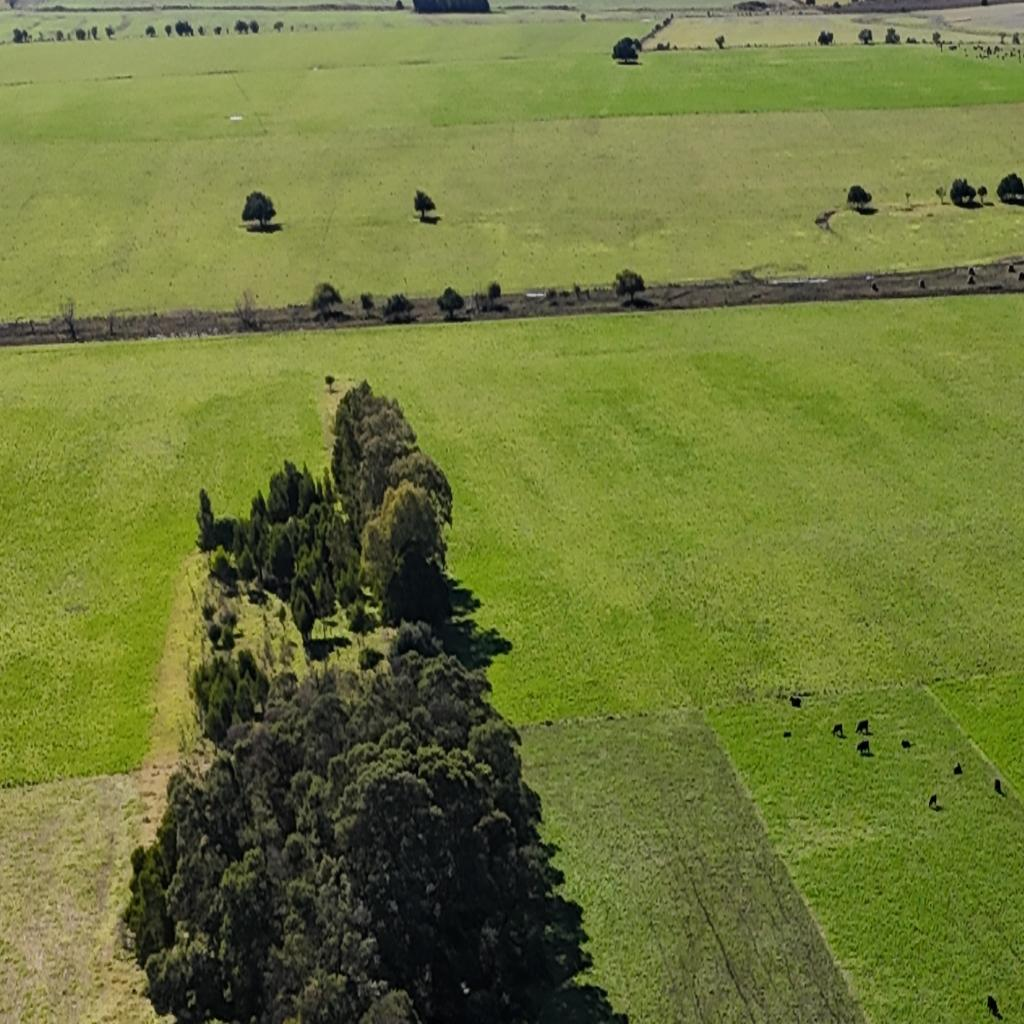cow: (855, 719, 870, 735), (856, 739, 870, 756), (832, 723, 844, 738), (995, 779, 1005, 796), (790, 696, 802, 708), (928, 794, 938, 808), (954, 762, 963, 775), (901, 739, 911, 749)
